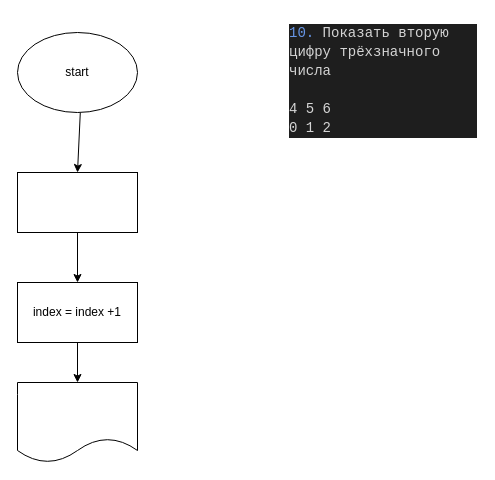
The diagram is 495 pixels wide and 480 high, and some of its shapes have lost their labels. The centre of each missing label's shape, as x and y in pixels:
"number (index)" belongs at pixel 77 422.
"number size = 3 index = 0" belongs at pixel 77 202.
